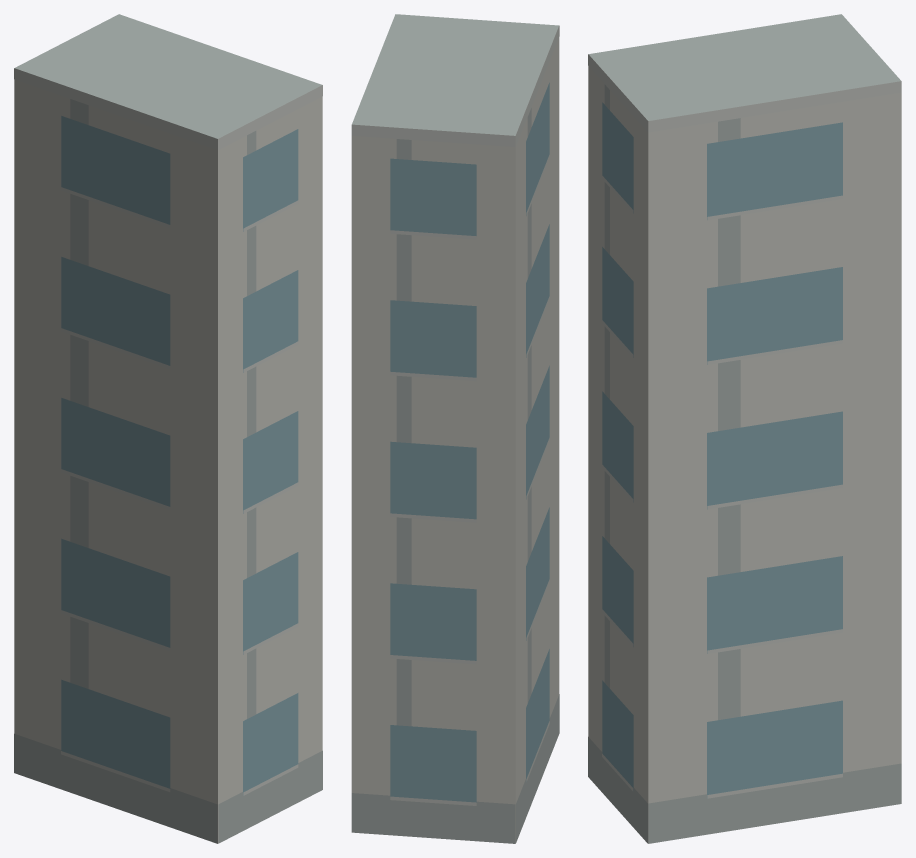
File: survey-upis-32867486.glb
The picture shows the model from 3 angles, left to right: view 1: azimuth 30°, elevation 25°; view 2: azimuth 150°, elevation 25°; view 3: azimuth 270°, elevation 25°; orthographic projection. The views are drawn at different scales.
Visible parts, largest first — view 1: survey-upis-32867486.tmp; view 2: survey-upis-32867486.tmp; view 3: survey-upis-32867486.tmp.
Part boxes in pixels (box(x1,y1,x2,y2)): survey-upis-32867486.tmp: box(14, 14, 322, 843); survey-upis-32867486.tmp: box(351, 14, 559, 843); survey-upis-32867486.tmp: box(588, 14, 901, 843).
Bounding box in the file's own units: 4.86 × 15.25 × 6.
